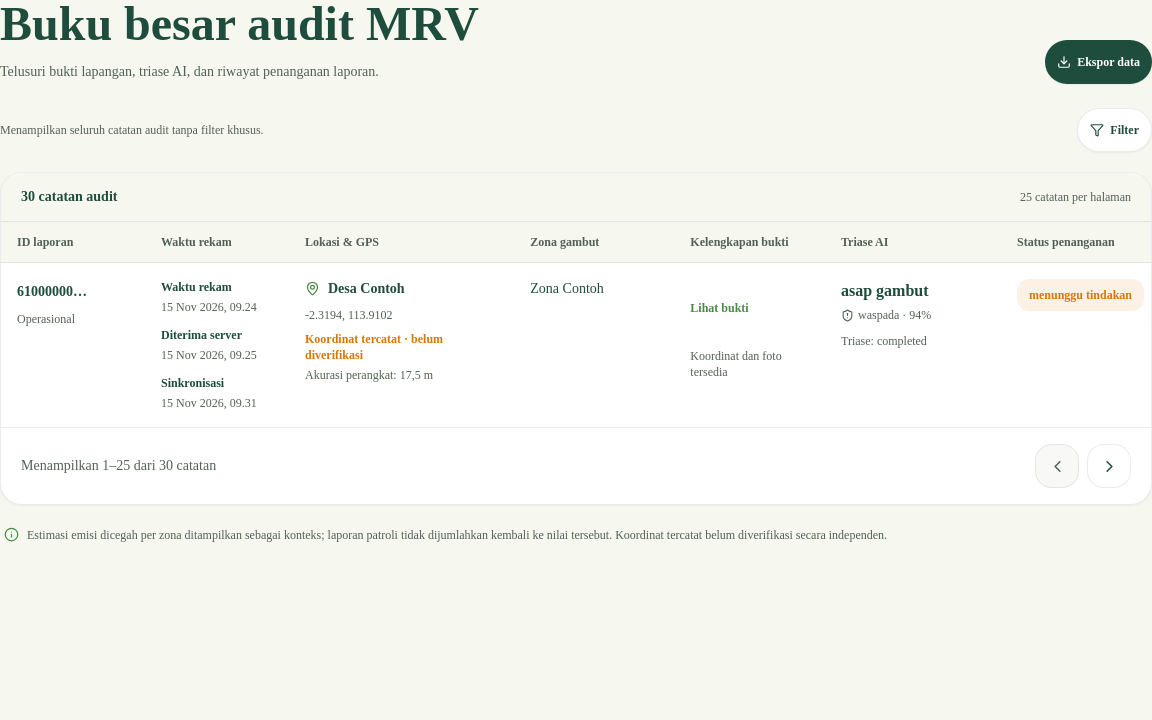
Test: filter dialog applies supported filters and restores focus on Escape
Click the button with aria-label "Filter buku besar" at (1115, 130), box 1077,108 -> 1151,152
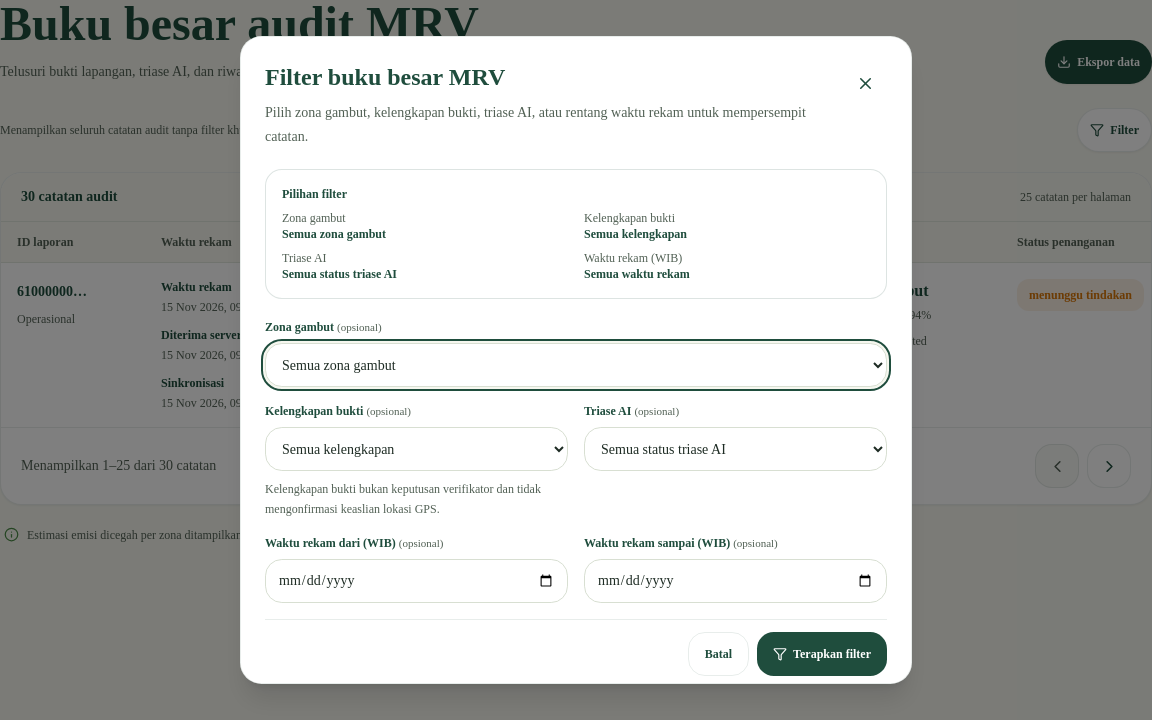
Result: the dialog "Filter buku besar MRV" shows "bukan keputusan verifikator" at 265,482 -> 541,516
Select "Koordinat dan foto tersedia" in the dropdown labelled "Kelengkapan bukti (opsional)" at (416, 449), box 265,427 -> 568,471
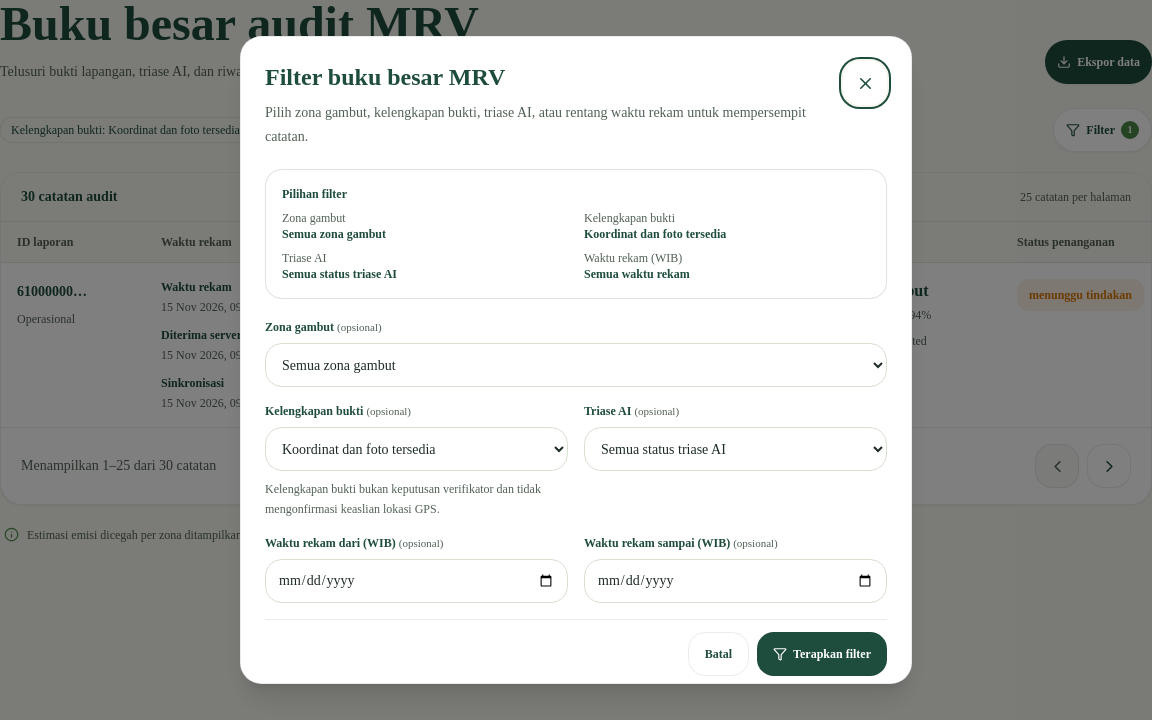
Result: the dropdown labelled "Triase AI (opsional)" is enabled at 584,427 -> 887,471
Type keys "{Shift>}{Tab}{/Shift}"
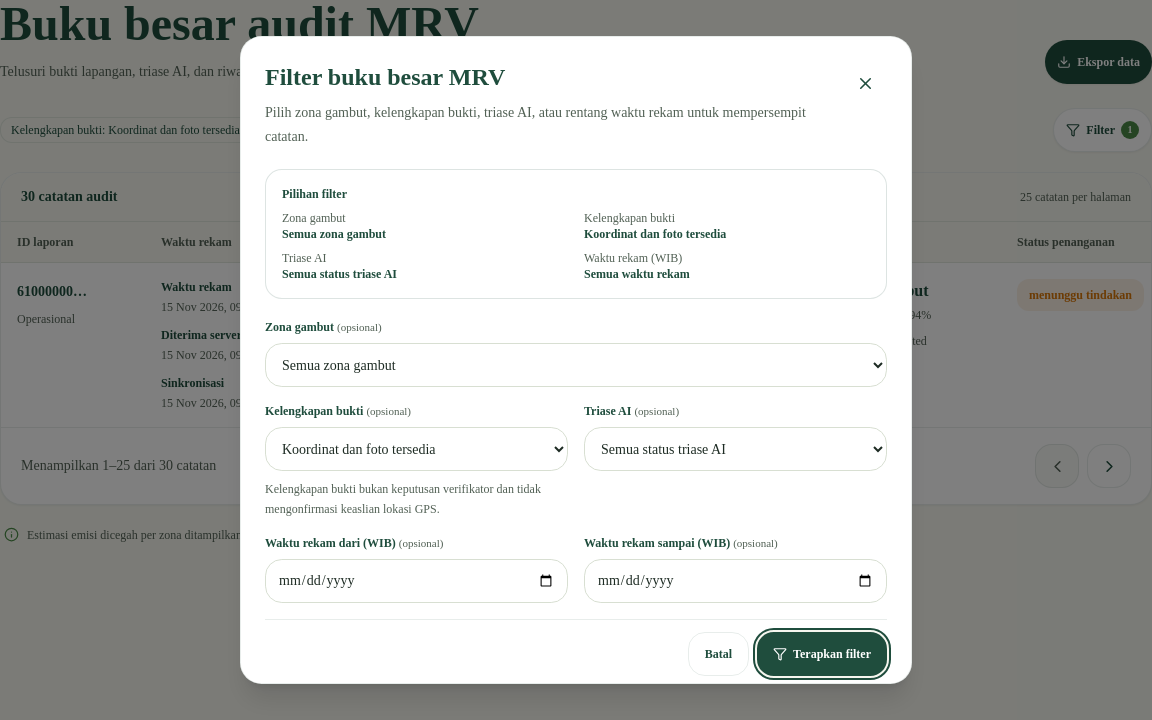
Press Escape
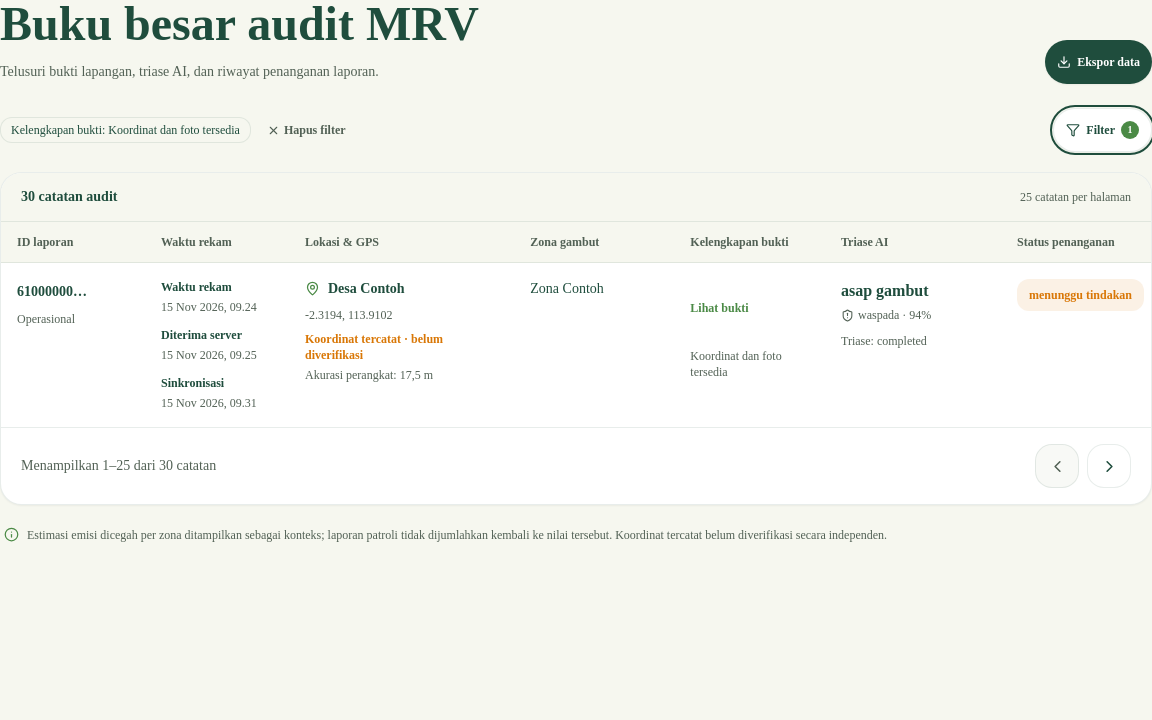
Result: the dialog is gone
